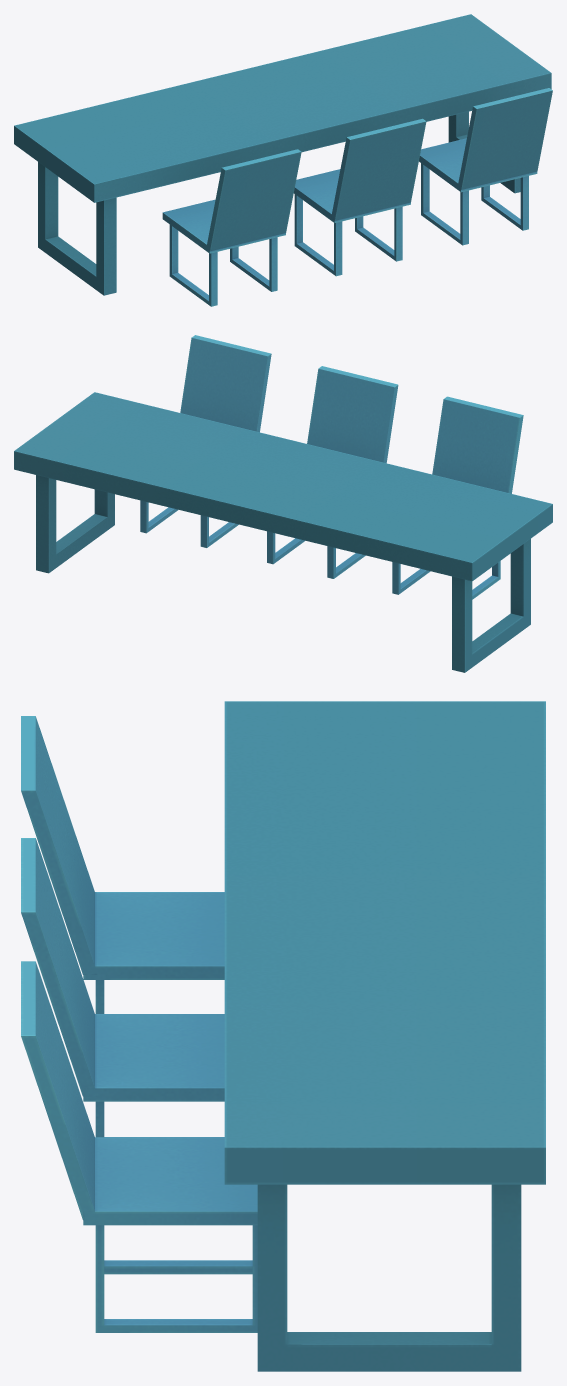
Rendered from table02_02.fbx.
The picture shows the model from 3 angles, top to bottom: view 1: azimuth 30°, elevation 25°; view 2: azimuth 150°, elevation 25°; view 3: azimuth 270°, elevation 25°; orthographic projection. The views are drawn at different scales.
Visible parts, largest first — view 1: polySurface191; view 2: polySurface191; view 3: polySurface191.
Boxes of the visible parts, left/top/right/bottom form: polySurface191: left=14, top=14, right=552, bottom=306; polySurface191: left=14, top=335, right=552, bottom=672; polySurface191: left=21, top=701, right=545, bottom=1371.
Bounding box in the file's own units: 49.46 × 15.65 × 24.6.
Materials: 1 (1 with a texture image).
